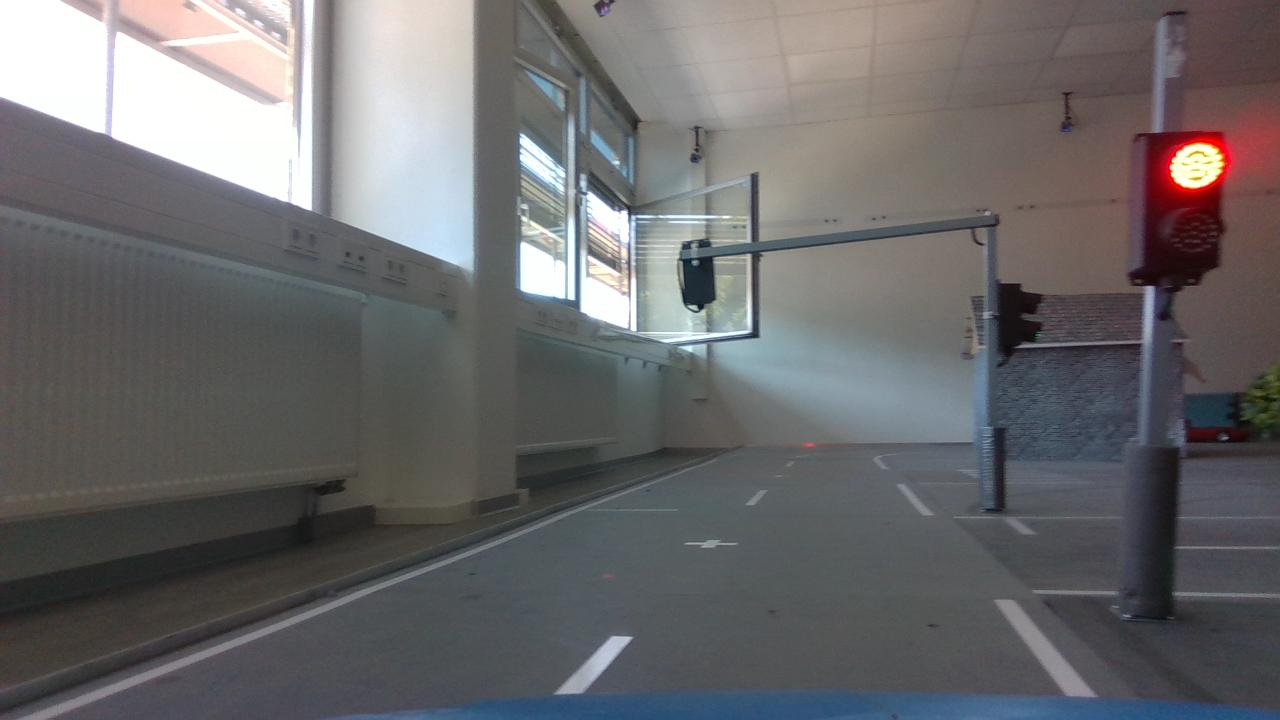traffic_light_red: (1110, 114, 1240, 308)
